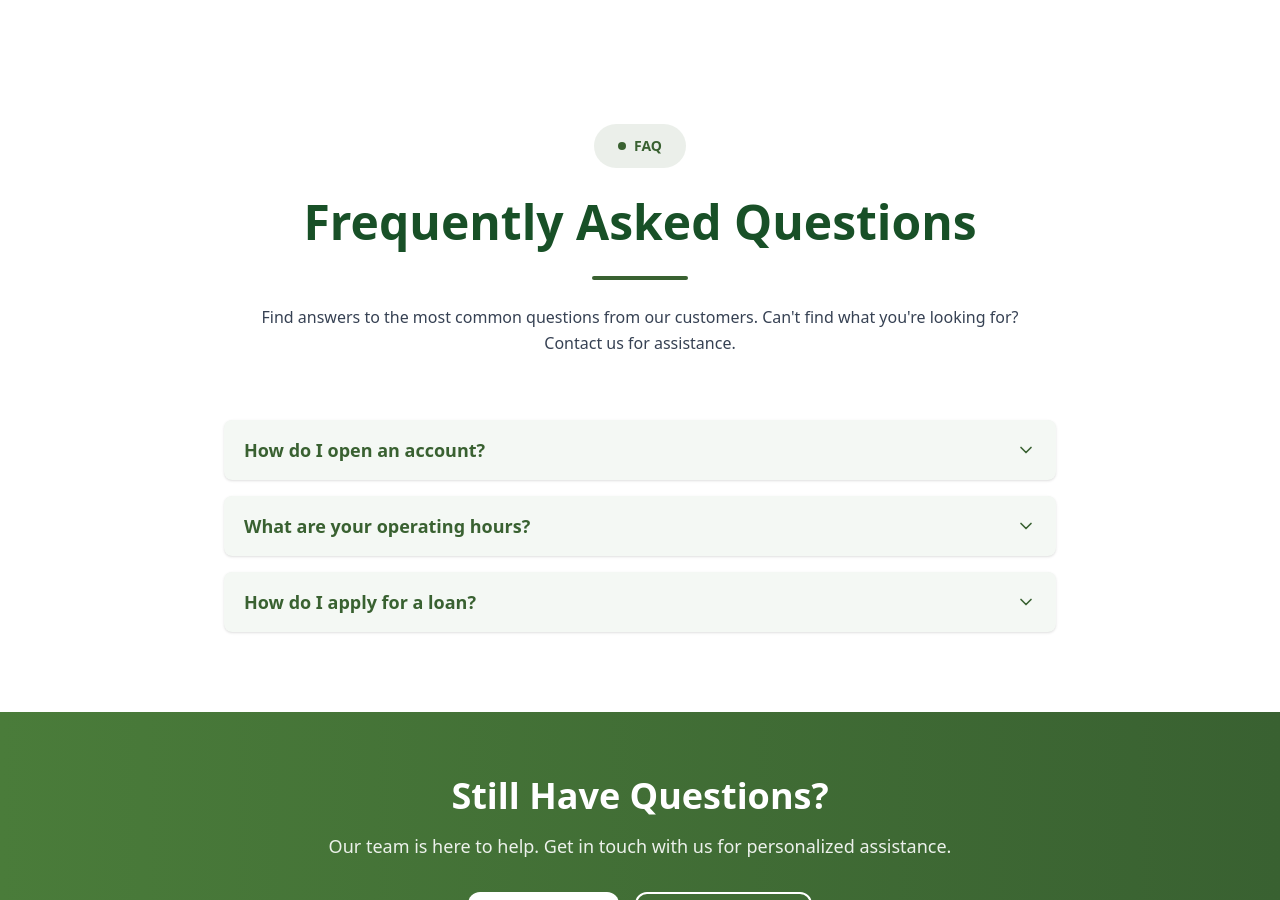
FAQPage › FAQ Accordion Functionality › closes previous FAQ when opening a new one
The image size is (1280, 900).
(page scrolled)
Check: the text "How do I open an account?" is shown, box [244, 436, 485, 464]
Click the button "How do I open an account?".
click(365, 450)  # box [224, 420, 1056, 480]
(page scrolled)
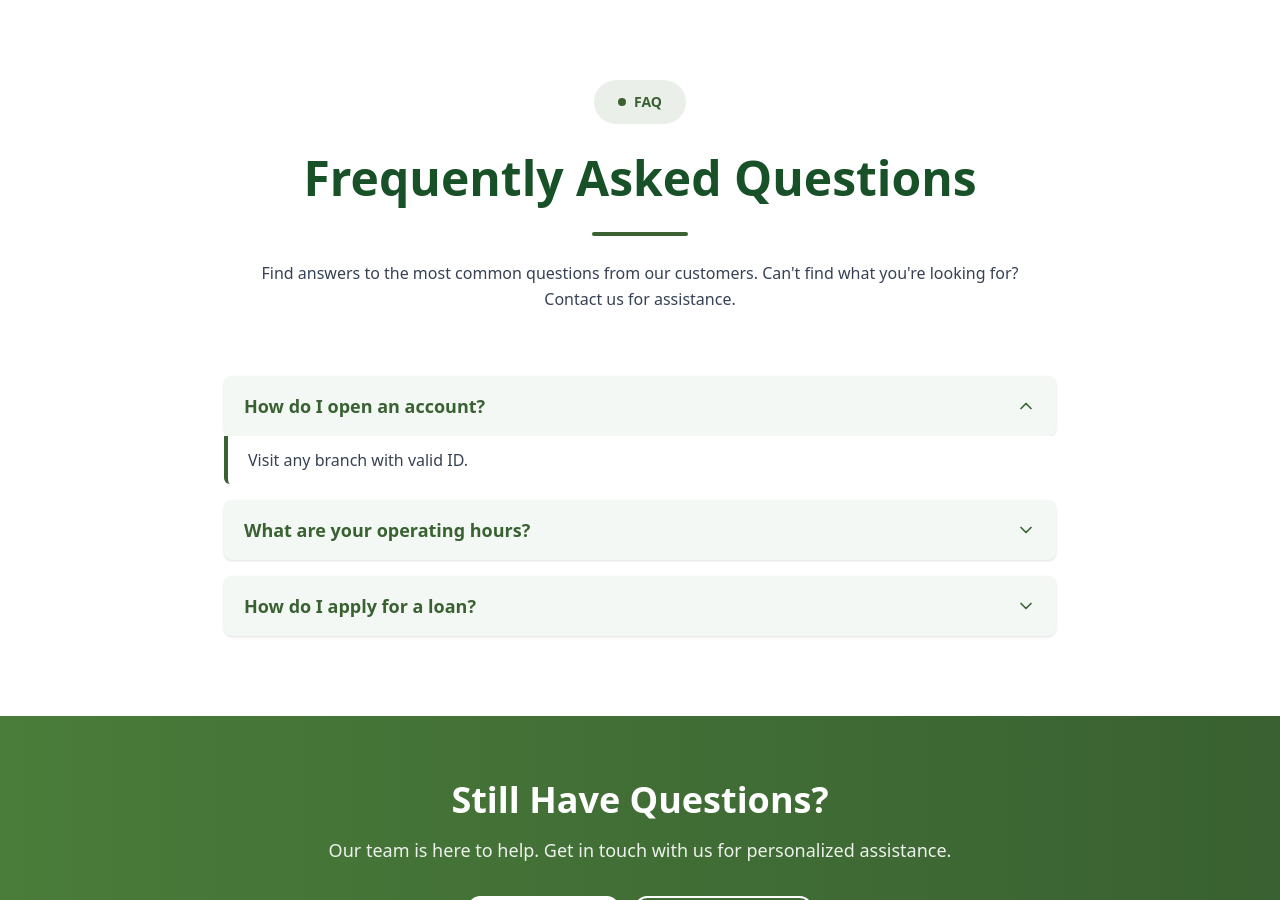
Check: the text "Visit any branch with valid ID." is shown, box [224, 436, 1056, 484]
Click the button "What are your operating hours?".
click(387, 530)  # box [224, 500, 1056, 560]
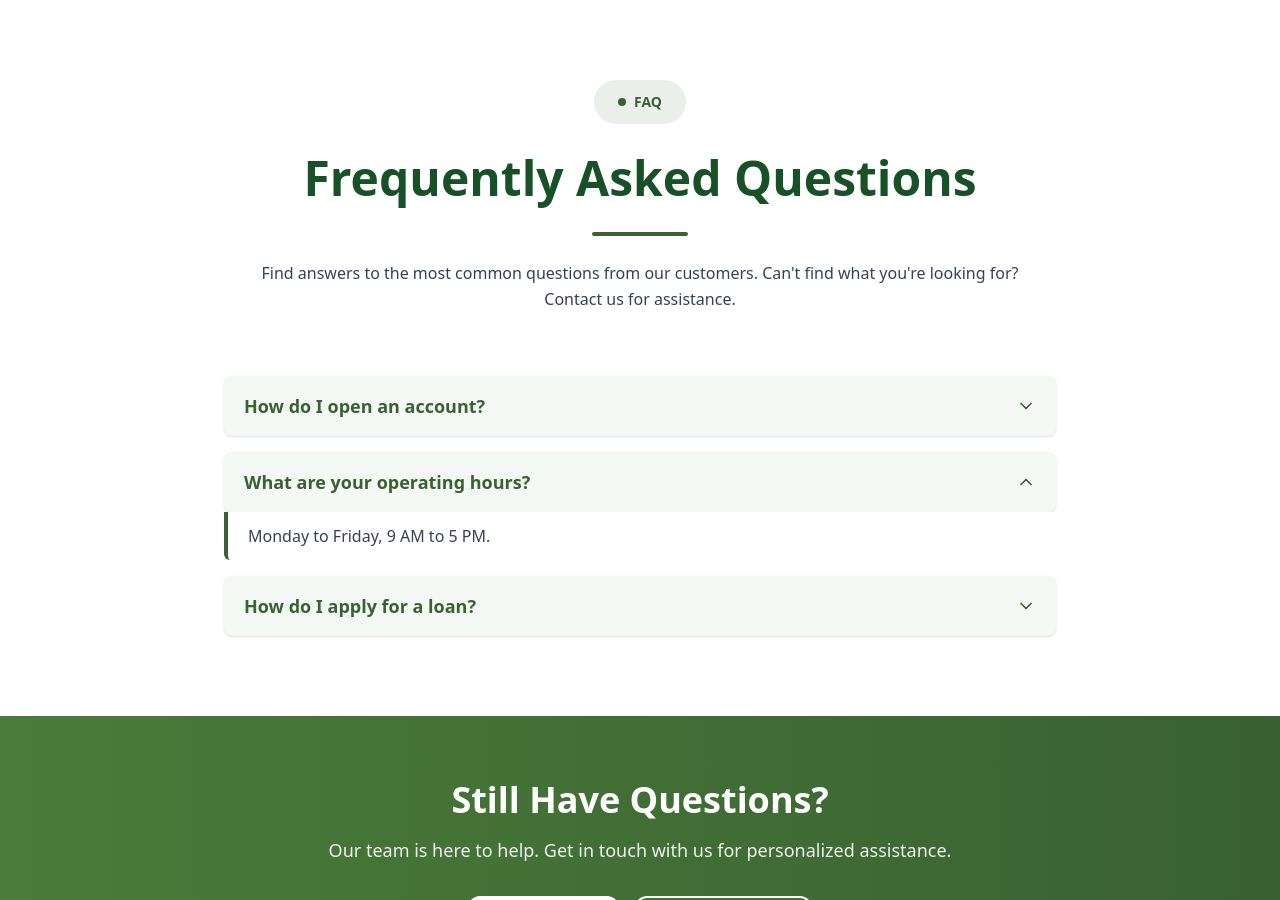
Check: the text "Monday to Friday, 9 AM to 5 PM." is shown, box [224, 512, 1056, 560]
